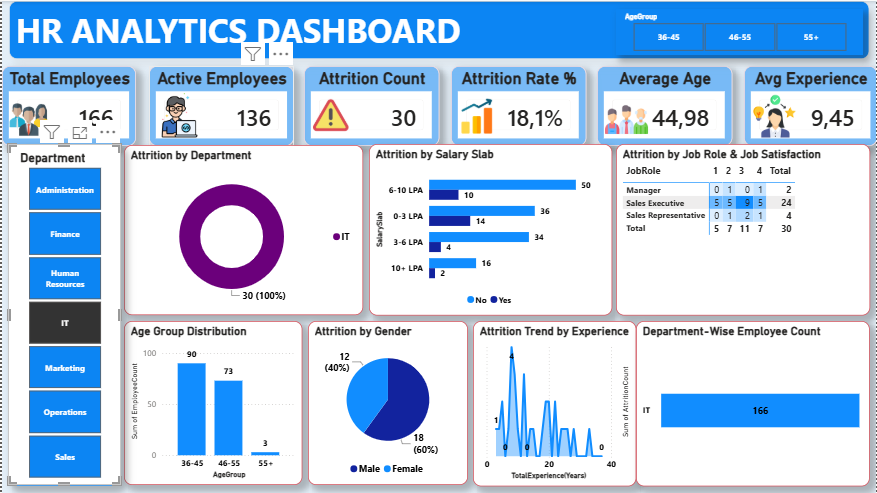

The dashboard page shown, as its layout file describes it:
{"tool":"powerbi","page":{"name":"Page 1","canvas":[1280,720],"ordinal":0},"visuals":[{"type":"textbox","box":[10,0,1259,85],"z":0},{"type":"cardVisual","title":"Total Employees","fields":{"Data":["CountNonNull(HR_Analytics-4(1).EmpID)"]},"box":[0,95.6,196.4,116.5],"z":1000},{"type":"cardVisual","title":"Active Employees","fields":{"Data":["CountNonNull(HR_Analytics-4(1).EmployeeCount)"]},"box":[214.7,95.6,212.1,116.5],"z":2000},{"type":"cardVisual","title":"Attrition Count","fields":{"Data":["Sum(HR_Analytics-4(1).AttritionCount)"]},"box":[442.5,95.6,197.7,116.5],"z":3000},{"type":"cardVisual","title":"Attrition Rate %","fields":{"Data":["HR_Analytics-4(1).Attrition Rate %"]},"box":[657.2,95.6,197.7,116.5],"z":4000},{"type":"cardVisual","title":"Average Age ","fields":{"Data":["Avg(HR_Analytics-4(1).Age)"]},"box":[870.5,95.6,197.7,116.5],"z":5000},{"type":"cardVisual","title":"Avg Experience","fields":{"Data":["Avg(HR_Analytics-4(1).YearsatCompany)"]},"box":[1085.2,95.6,195.1,116.5],"z":6000},{"type":"image","box":[1095.8,136.8,69.1,64.8],"z":7000},{"type":"image","box":[882.7,133.9,63.4,77.8],"z":8000},{"type":"image","box":[668.2,139.7,51.8,59],"z":9000},{"type":"image","box":[455,136.8,51.8,61.9],"z":10000},{"type":"image","box":[226.1,133.9,69.1,64.8],"z":11000},{"type":"image","box":[10.1,136.8,59,74.9],"z":12000},{"type":"donutChart","title":"Attrition by Department","fields":{"Category":["HR_Analytics-4(1).Department"],"Y":["Sum(HR_Analytics-4(1).AttritionCount)"]},"box":[179,210,350,249],"z":13000},{"type":"clusteredBarChart","title":"Attrition by Salary Slab","fields":{"Category":["HR_Analytics-4(1).SalarySlab"],"Y":["CountNonNull(HR_Analytics-4(1).EmpID)"],"Series":["HR_Analytics-4(1).Attrition"]},"box":[537,209,355.7,251],"z":14000},{"type":"pivotTable","title":"Attrition by Job Role & Job Satisfaction","fields":{"Rows":["HR_Analytics-4(1).JobRole"],"Values":["Sum(HR_Analytics-4(1).AttritionCount)"],"Columns":["HR_Analytics-4(1).JobSatisfaction"]},"box":[898,209,371.5,251],"z":15000},{"type":"columnChart","title":"Age Group Distribution","fields":{"Category":["HR_Analytics-4(1).AgeGroup"],"Y":["Sum(HR_Analytics-4(1).EmployeeCount)"]},"box":[179,469,261,240.5],"z":16000},{"type":"pieChart","title":"Attrition by Gender","fields":{"Category":["HR_Analytics-4(1).Gender"],"Y":["Sum(HR_Analytics-4(1).AttritionCount)"]},"box":[448,469,234,240],"z":17000},{"type":"areaChart","title":"Attrition Trend by Experience","fields":{"Category":["HR_Analytics-4(1).TotalExperience(Years)"],"Y2":["Sum(HR_Analytics-4(1).AttritionCount)"]},"box":[689,469,239,242],"z":18000},{"type":"funnel","title":"Department-Wise Employee Count","fields":{"Category":["HR_Analytics-4(1).Department"],"Y":["CountNonNull(HR_Analytics-4(1).EmpID)"]},"box":[928,469,342,242],"z":19000},{"type":"slicer","fields":{"Values":["HR_Analytics-4(1).Department"]},"box":[9,209,165,500],"z":19001},{"type":"slicer","fields":{"Values":["HR_Analytics-4(1).AgeGroup"]},"box":[898,12,361,68],"z":19002}]}

Visuals, with their boxes in screenshot pixels (x1, y1, x2, y2), scaled from the page's 1280x720 canvas onto the 877x493 screenshot:
textbox: l=7, t=0, r=869, b=58
"Total Employees" cardVisual: l=0, t=65, r=135, b=145
"Active Employees" cardVisual: l=147, t=65, r=292, b=145
"Attrition Count" cardVisual: l=303, t=65, r=439, b=145
"Attrition Rate %" cardVisual: l=450, t=65, r=586, b=145
"Average Age " cardVisual: l=596, t=65, r=732, b=145
"Avg Experience" cardVisual: l=744, t=65, r=876, b=145
image: l=751, t=94, r=798, b=138
image: l=605, t=92, r=648, b=145
image: l=458, t=96, r=493, b=136
image: l=312, t=94, r=347, b=136
image: l=155, t=92, r=202, b=136
image: l=7, t=94, r=47, b=145
"Attrition by Department" donutChart: l=123, t=144, r=362, b=314
"Attrition by Salary Slab" clusteredBarChart: l=368, t=143, r=612, b=315
"Attrition by Job Role & Job Satisfaction" pivotTable: l=615, t=143, r=870, b=315
"Age Group Distribution" columnChart: l=123, t=321, r=301, b=486
"Attrition by Gender" pieChart: l=307, t=321, r=467, b=485
"Attrition Trend by Experience" areaChart: l=472, t=321, r=636, b=487
"Department-Wise Employee Count" funnel: l=636, t=321, r=870, b=487
slicer - HR_Analytics-4(1).Department: l=6, t=143, r=119, b=485
slicer - HR_Analytics-4(1).AgeGroup: l=615, t=8, r=863, b=55
